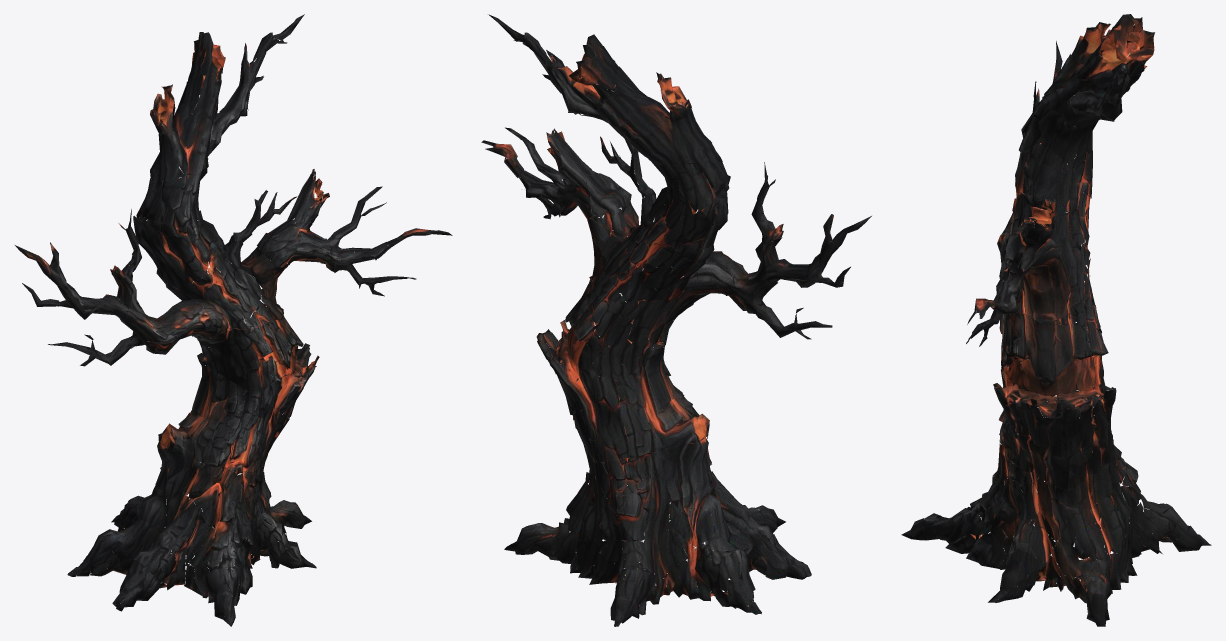
Rendered from fire_tree.glb.
3 renders of one model, left to right at view 1: azimuth 30°, elevation 25°; view 2: azimuth 150°, elevation 25°; view 3: azimuth 270°, elevation 25°, orthographic. The views are drawn at different scales.
Parts seen in each view (by area): view 1: LairFireTree; view 2: LairFireTree; view 3: LairFireTree.
Part boxes in pixels (bbox=[...]): LairFireTree: bbox=[15, 14, 452, 626]; LairFireTree: bbox=[481, 14, 871, 626]; LairFireTree: bbox=[901, 14, 1211, 626].
Size of the model in its own units: 0.8309 by 1 by 0.4993.
1 material, 1 textured.
